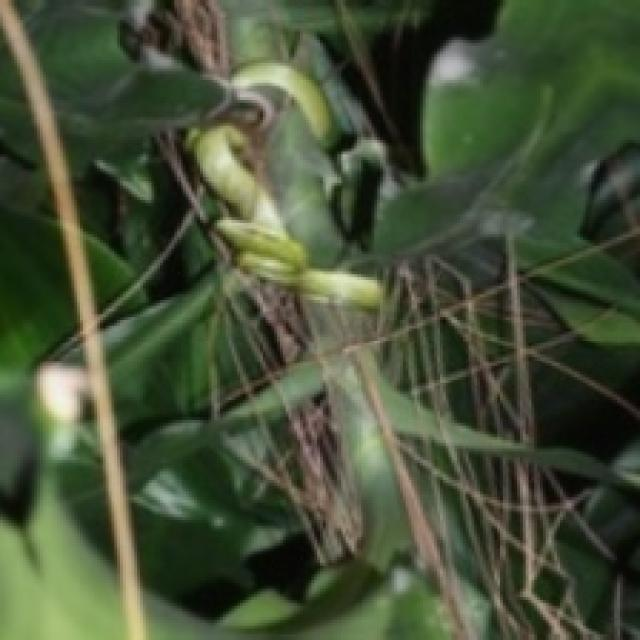red-tailed green ratsnake: (188, 64, 381, 308)
